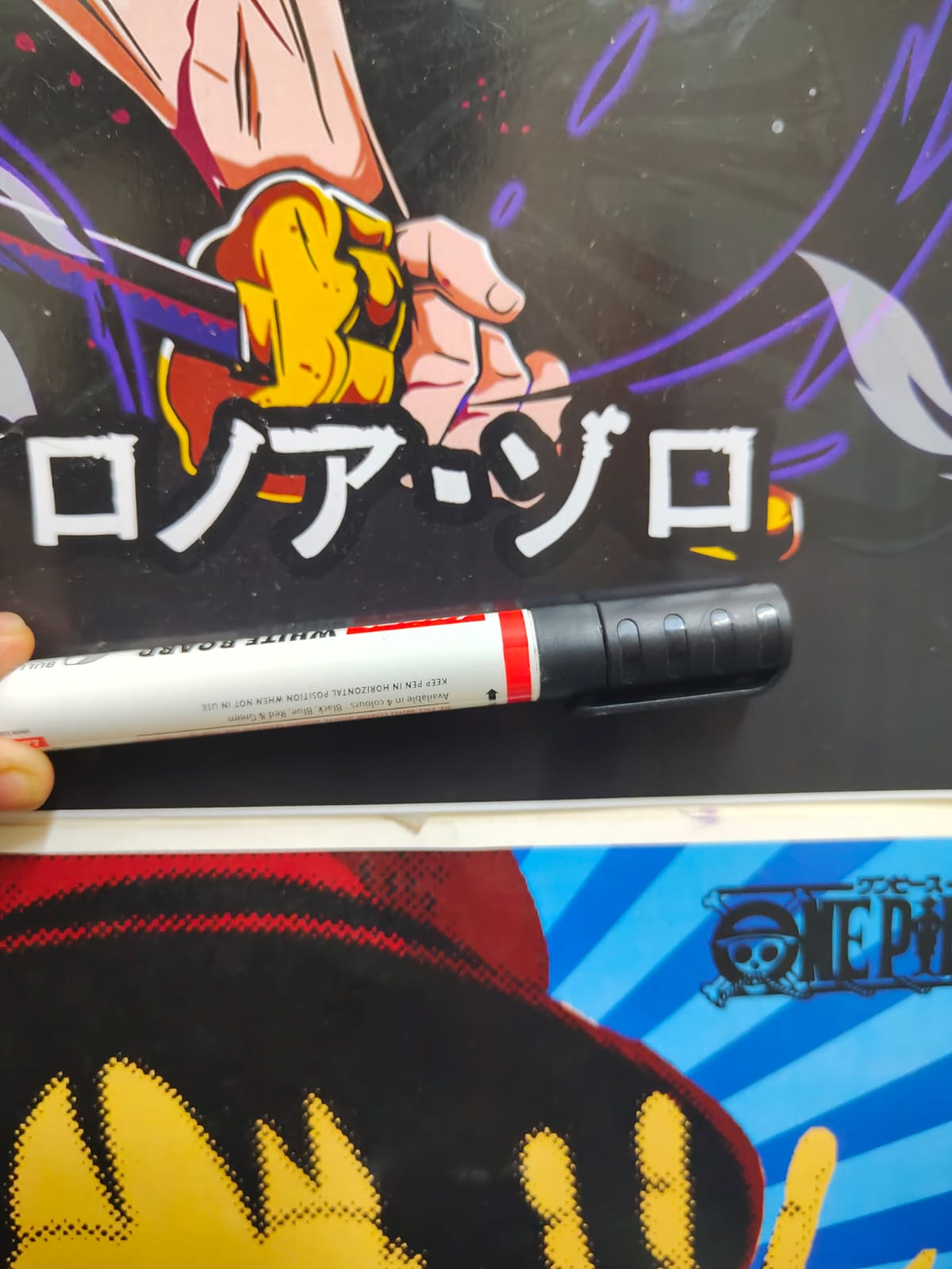case: (4, 564, 846, 743)
